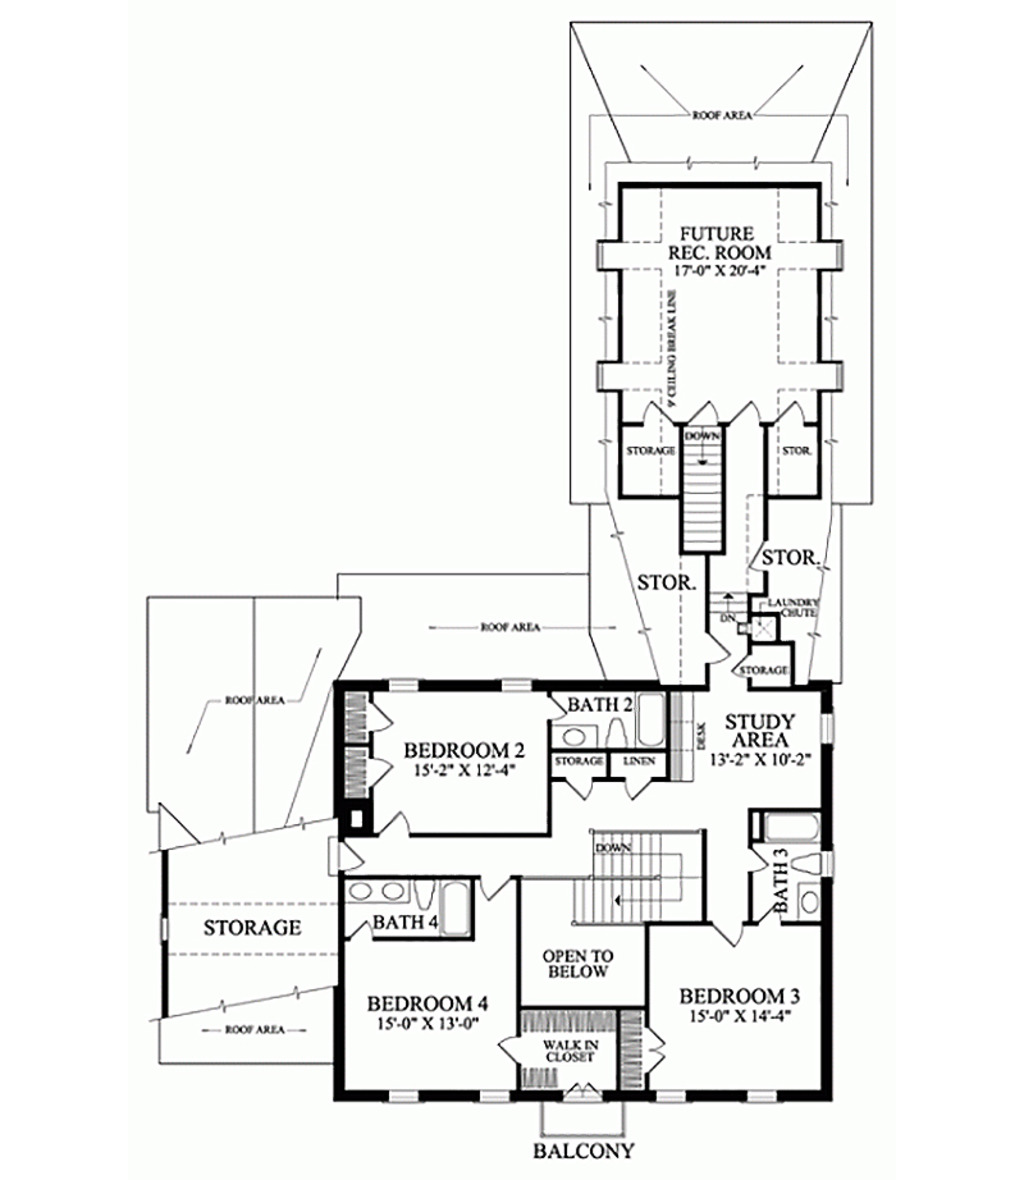door: (640, 1019, 669, 1076), (707, 917, 746, 953), (768, 393, 807, 428), (682, 397, 721, 430), (360, 697, 393, 736), (479, 872, 514, 907), (379, 810, 416, 841), (557, 774, 598, 801), (370, 751, 393, 798), (494, 1034, 523, 1071), (727, 399, 763, 427), (704, 625, 730, 663), (639, 400, 677, 425), (620, 774, 657, 799), (748, 845, 772, 876)
large_sink: (785, 850, 831, 886), (603, 717, 630, 750), (411, 878, 437, 911)
small_sink: (340, 880, 412, 907), (548, 722, 605, 750), (796, 881, 820, 921)
stairs: (567, 823, 710, 930), (677, 423, 733, 560)
tub: (438, 884, 476, 940), (761, 814, 820, 845), (636, 692, 665, 752)
window: (489, 673, 538, 696), (818, 712, 840, 756), (383, 675, 419, 699), (736, 1089, 790, 1105), (649, 1087, 687, 1108), (472, 1089, 516, 1107), (382, 1086, 420, 1104)
